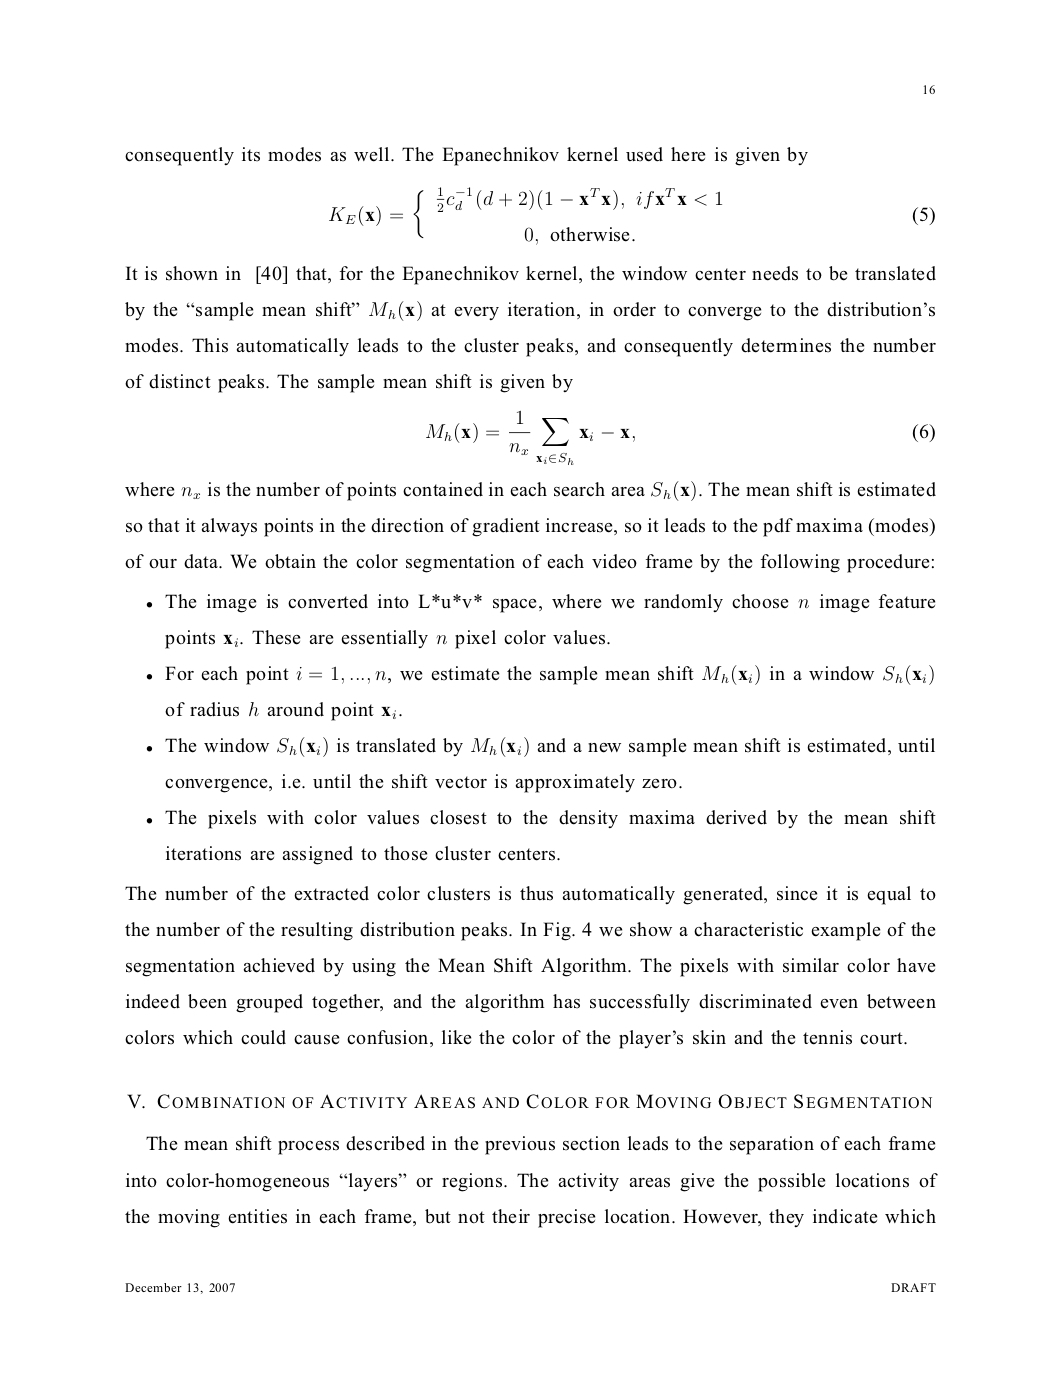formula: (329, 186, 934, 245), (426, 409, 934, 465)
